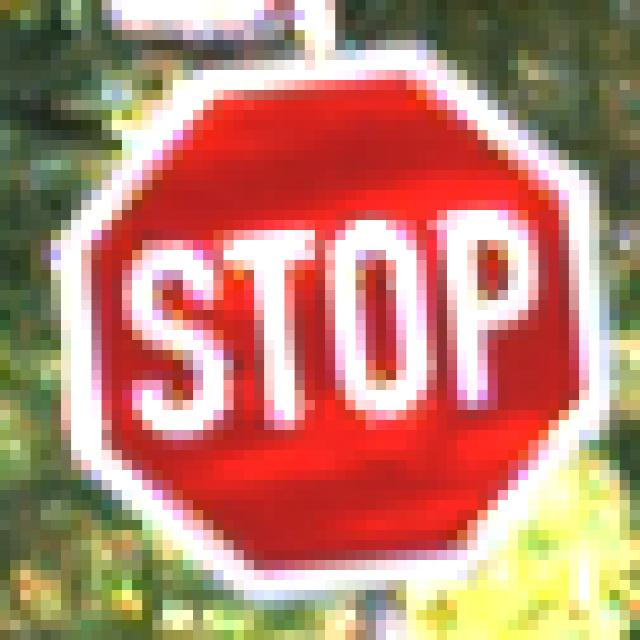STOP: (62, 51, 590, 581)
